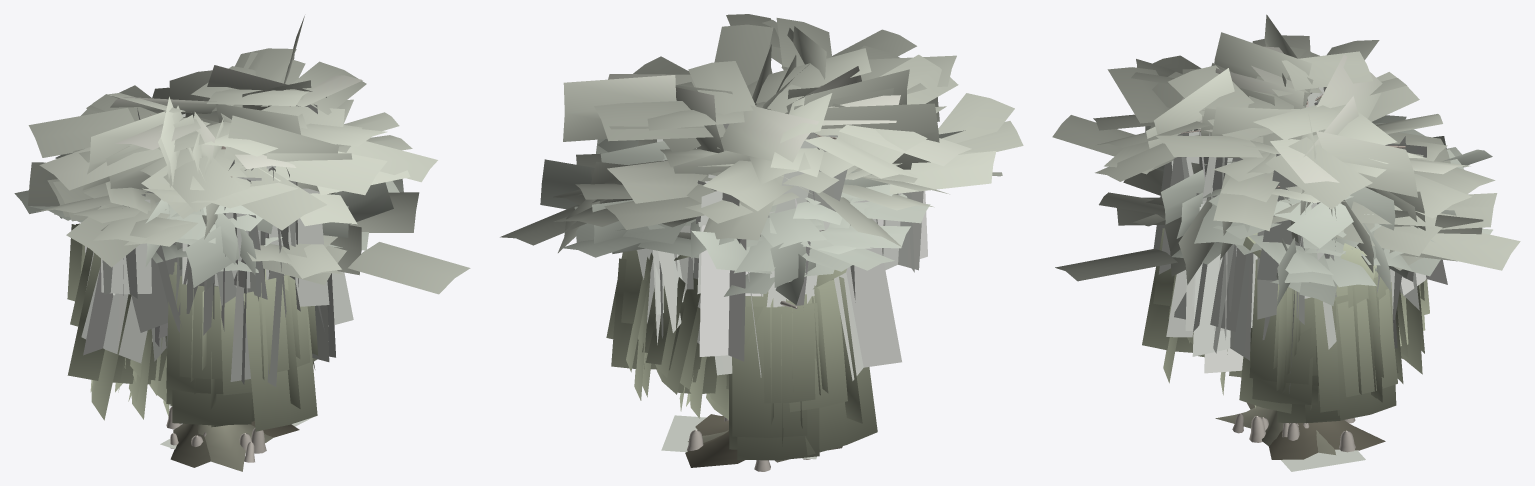
File: swamp_flora.glb
The picture shows the model from 3 angles, left to right: view 1: azimuth 30°, elevation 25°; view 2: azimuth 150°, elevation 25°; view 3: azimuth 270°, elevation 25°; orthographic projection. The views are drawn at different scales.
Visible parts, largest first — view 1: cypress_a_lod0, willow_a_lod0, cypress_b_lod0, knees_a, knees_b; view 2: cypress_a_lod0, willow_a_lod0, cypress_b_lod0, sw_lily_a; view 3: cypress_a_lod0, cypress_b_lod0, willow_a_lod0, knees_a, sw_lily_a, knees_b.
Part boxes in pixels (x1=…): cypress_a_lod0: x1=28, y1=16, x2=470, y2=437; willow_a_lod0: x1=67, y1=223, x2=318, y2=431; cypress_b_lod0: x1=14, y1=152, x2=403, y2=467; knees_a: x1=170, y1=424, x2=272, y2=471; knees_b: x1=166, y1=407, x2=266, y2=453; cypress_a_lod0: x1=500, y1=14, x2=1023, y2=467; willow_a_lod0: x1=606, y1=250, x2=877, y2=460; cypress_b_lod0: x1=540, y1=130, x2=965, y2=462; sw_lily_a: x1=661, y1=415, x2=816, y2=459; cypress_a_lod0: x1=1052, y1=14, x2=1520, y2=459; cypress_b_lod0: x1=1145, y1=115, x2=1492, y2=409; willow_a_lod0: x1=1142, y1=228, x2=1429, y2=423; knees_a: x1=1215, y1=406, x2=1355, y2=454; sw_lily_a: x1=1281, y1=449, x2=1365, y2=471; knees_b: x1=1249, y1=416, x2=1355, y2=442.
Size of what is drawn, in the model's own units: 7.48 by 6.82 by 8.2.
